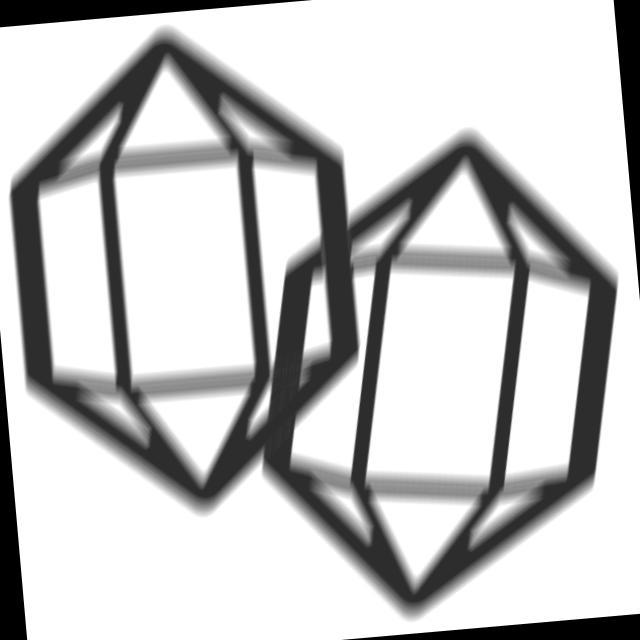crystal: (214, 102, 640, 640), (1, 1, 390, 539)
